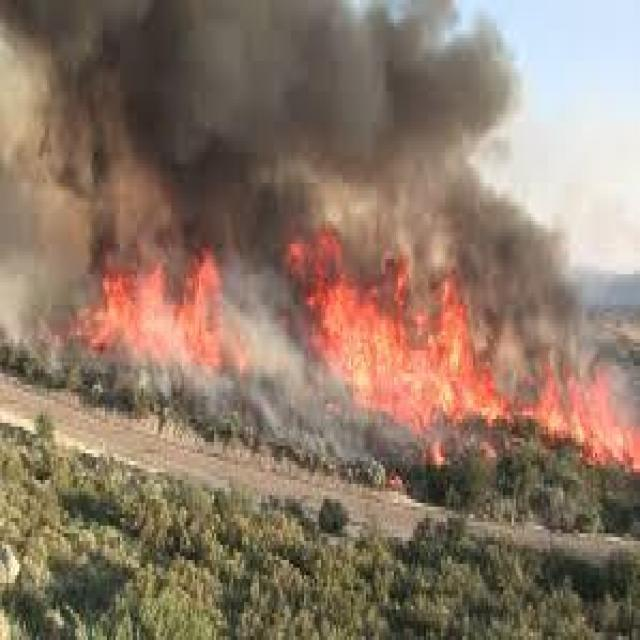Fire: (34, 212, 635, 444), (44, 222, 242, 402)
Smoke: (9, 0, 620, 225)
